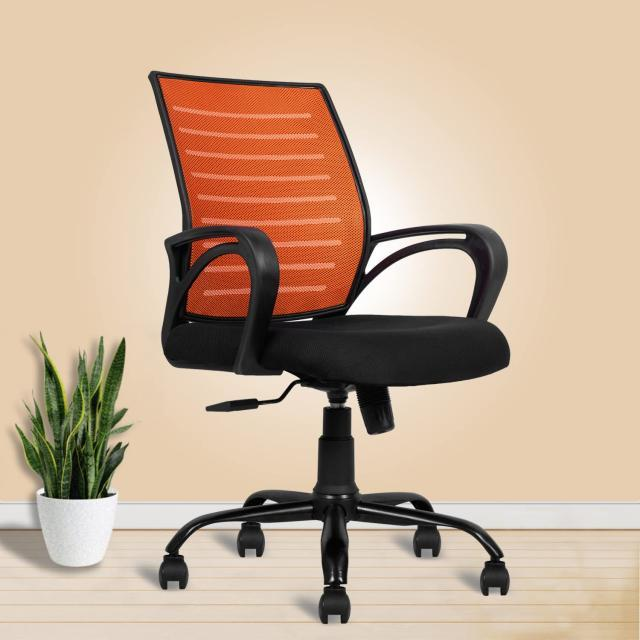chair: (145, 69, 520, 626)
